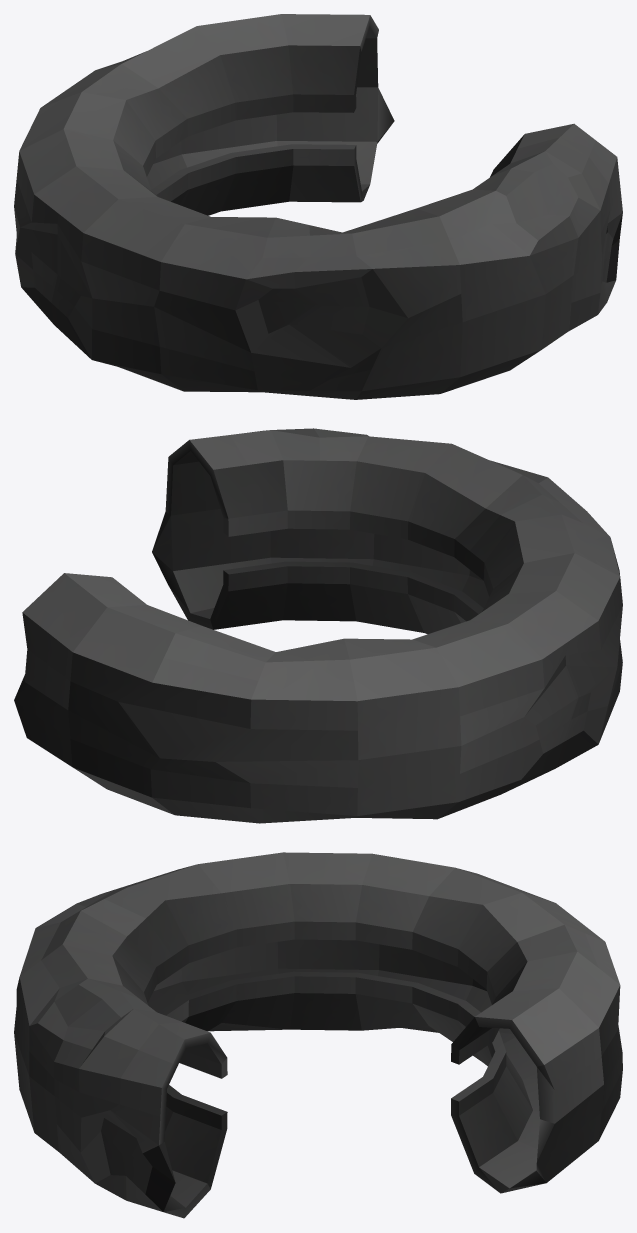
Rendered from car_tire.glb.
3 renders of one model, top to bottom at view 1: azimuth 30°, elevation 25°; view 2: azimuth 150°, elevation 25°; view 3: azimuth 270°, elevation 25°, orthographic. The views are drawn at different scales.
Visible parts, largest first — view 1: car_tire; view 2: car_tire; view 3: car_tire.
Part boxes in pixels (x1,y1,x2,y2): car_tire: [14, 14, 622, 399]; car_tire: [14, 428, 622, 823]; car_tire: [14, 852, 622, 1218].
Bounding box in the file's own units: 0.7638 × 0.2733 × 0.8173.
1 material, 1 textured.
